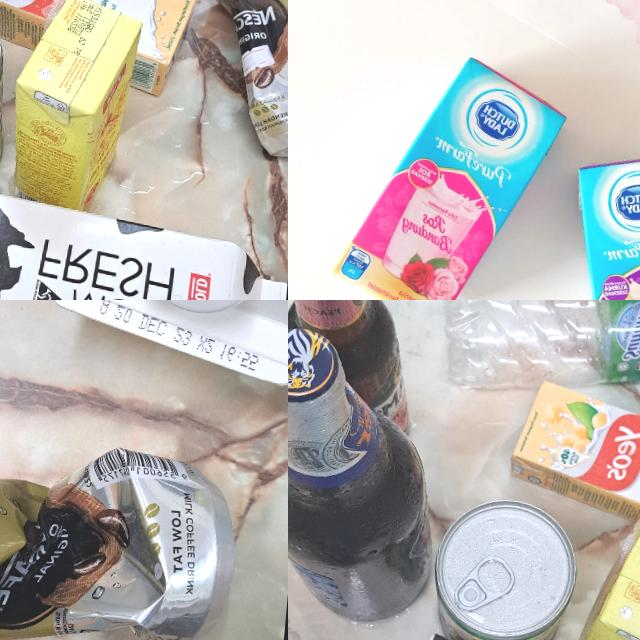aba de lata: (454, 547, 516, 615)
caixinha: (331, 44, 569, 300), (0, 162, 288, 300), (14, 0, 152, 212), (500, 377, 640, 532), (47, 300, 288, 382), (0, 0, 196, 96), (558, 143, 640, 300), (580, 514, 640, 640)
garrafa de vidro: (288, 331, 447, 640), (288, 300, 420, 461)
garrafa plástica: (433, 300, 640, 416), (288, 560, 431, 640)
lata: (0, 422, 245, 640), (426, 491, 585, 640), (188, 0, 288, 163)
